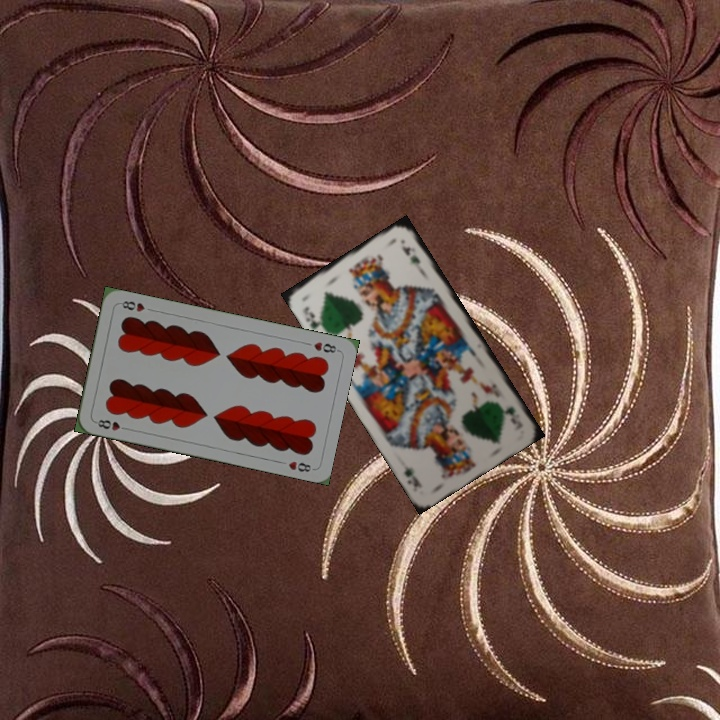GK: (299, 303, 328, 332), (501, 402, 519, 428)
H8: (91, 415, 131, 433), (310, 338, 341, 356)
